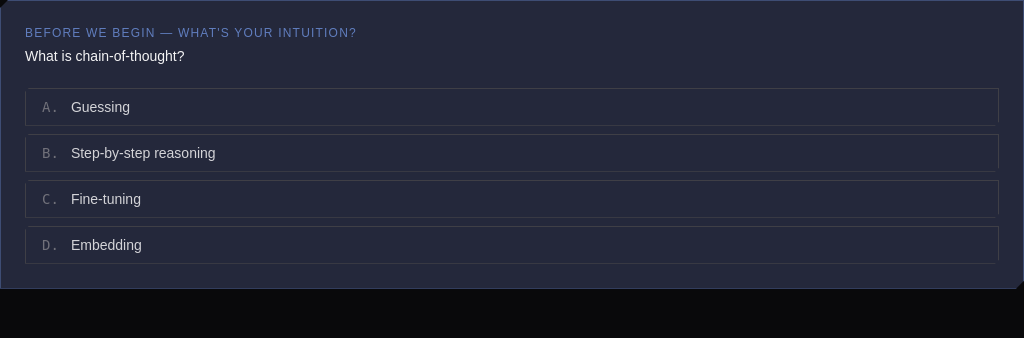
Test: PredictionQuestion › shows reveal explanation when revealed=true and option selected
The image size is (1024, 338).
Click the button with test id "prediction-option-0".
click(100, 107)  # box 25,88 -> 999,126
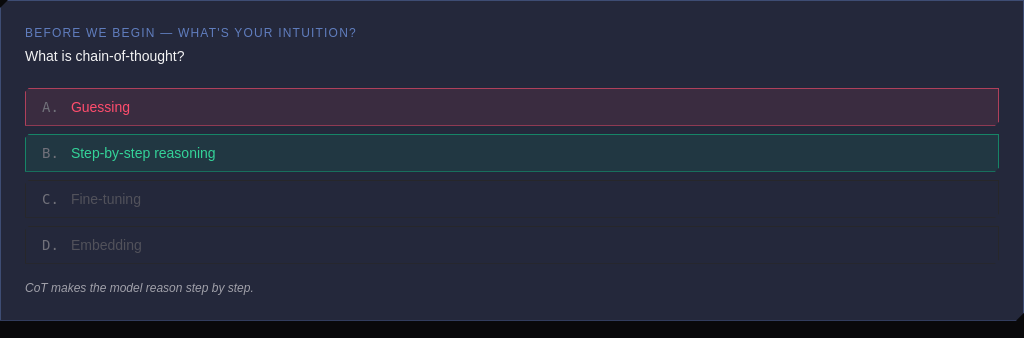
Check: the text "CoT makes the model reason step by step." is shown, box 25,281 -> 254,295
